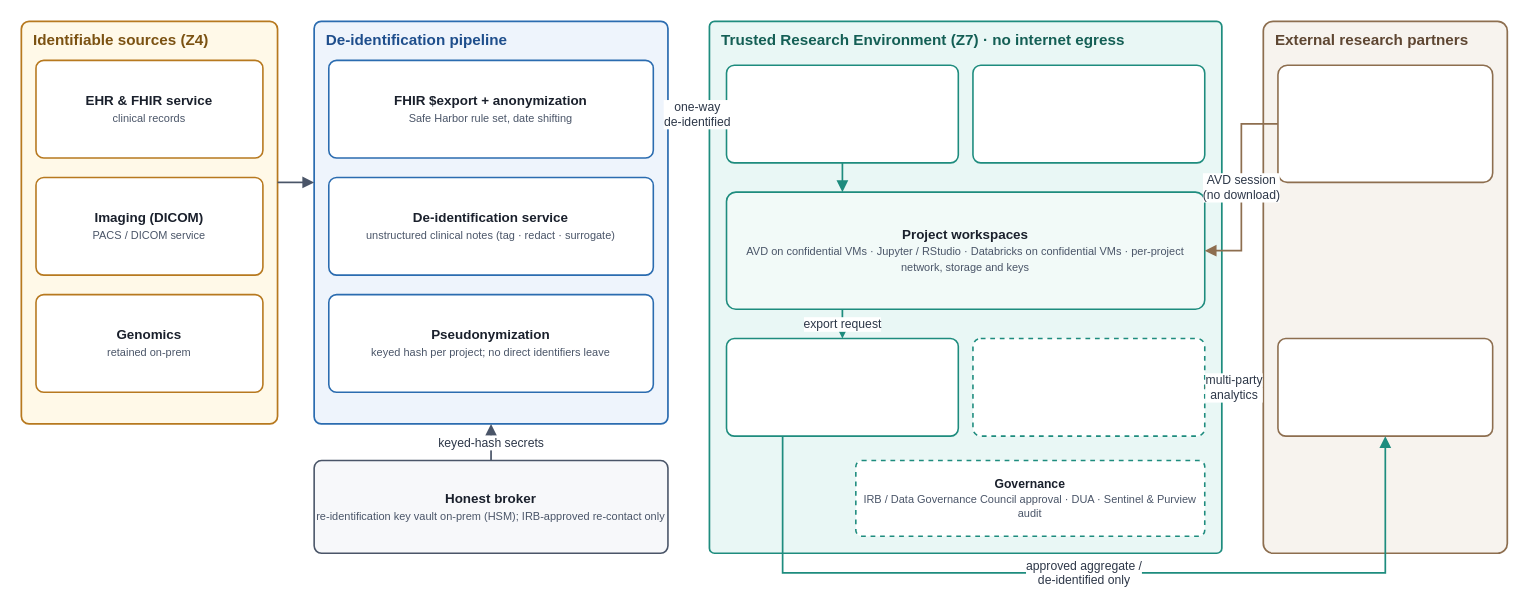
Some shapes in this 1530 by 609 pixel diagram are drawn without their labels. Each missing label, with the centre of its shape:
Airlock import & export review by data steward: pixel 842 386
Confidential clean room pilot — service in preview: pixel 1088 386
Data recipients Azure Data Share (snapshot) under DUA: pixel 1385 386
Partner researchers Entra B2B · home-tenant MFA & compliant device trusted: pixel 1385 123
Purview catalog & policies datasets, approvals, lineage: pixel 1088 113
Research data lake pseudonymized, ADLS Gen2, CMK: pixel 842 113
